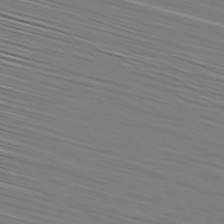cavities: (106, 61, 181, 119)
